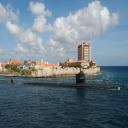submarine: (2, 69, 124, 91)
